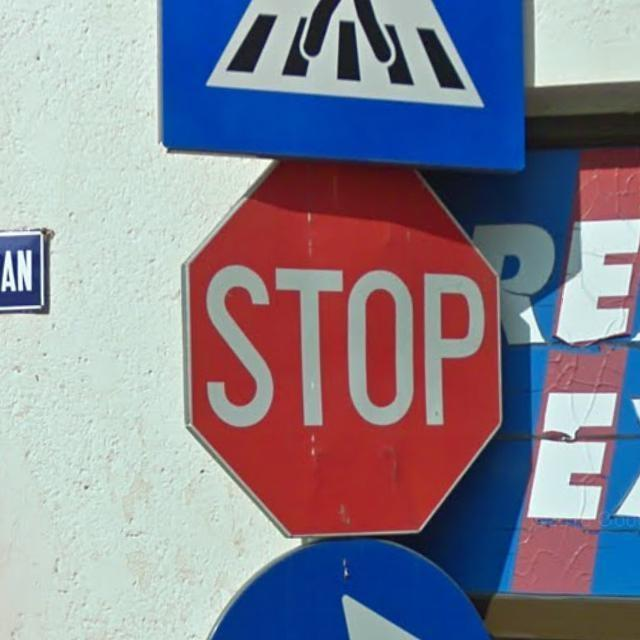prio_stop: (182, 159, 501, 533)
